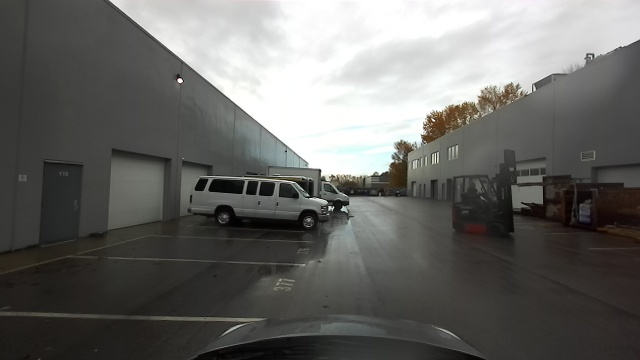car: (188, 173, 329, 226), (447, 145, 525, 238), (268, 167, 352, 208)
